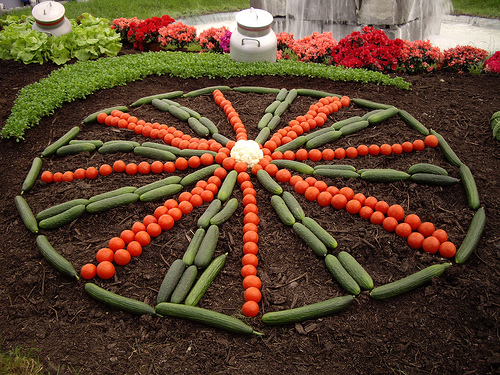cucumber: (257, 291, 362, 330), (153, 300, 255, 339), (368, 261, 451, 300)
